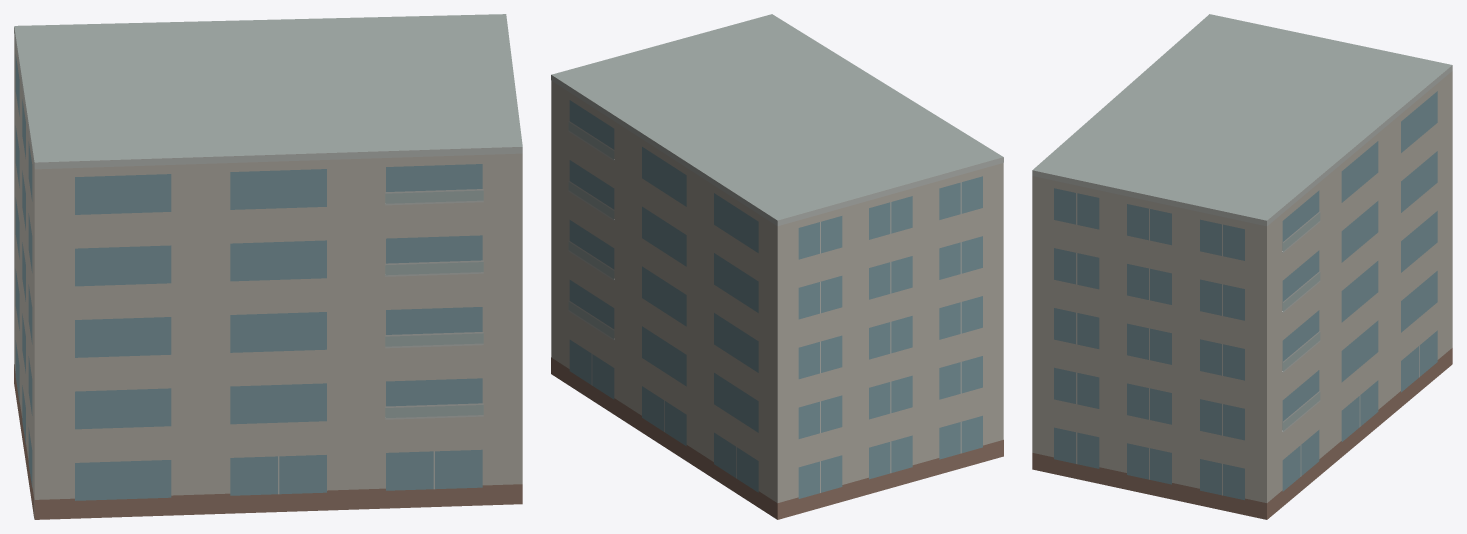
Rendered from survey-upis-32845372.glb.
3 renders of one model, left to right at view 1: azimuth 30°, elevation 25°; view 2: azimuth 150°, elevation 25°; view 3: azimuth 270°, elevation 25°, orthographic. The views are drawn at different scales.
Visible parts, largest first — view 1: survey-upis-32845372.tmp; view 2: survey-upis-32845372.tmp; view 3: survey-upis-32845372.tmp.
Boxes of the visible parts, x1,y1,x2,y2 form: survey-upis-32845372.tmp: (14,14,522,519); survey-upis-32845372.tmp: (551,14,1003,519); survey-upis-32845372.tmp: (1032,14,1452,519).
Size of the model in its own units: 18.98 by 12.8 by 16.31.
